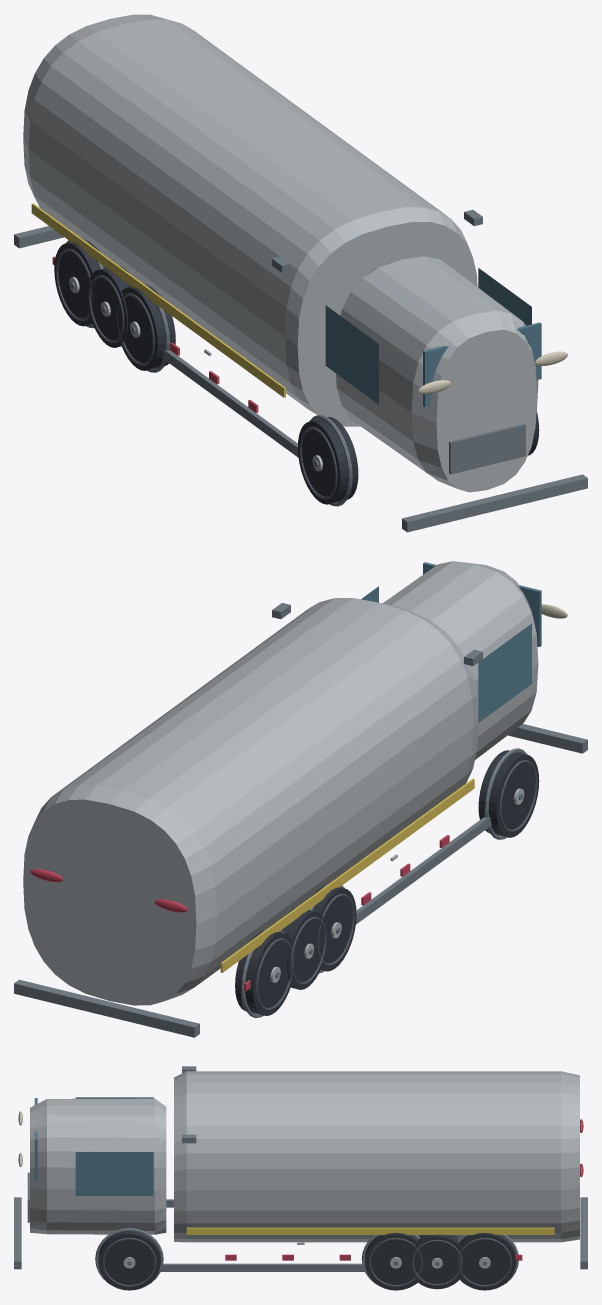
Rendered from truck.glb.
The picture shows the model from 3 angles, top to bottom: view 1: azimuth 30°, elevation 25°; view 2: azimuth 150°, elevation 25°; view 3: azimuth 270°, elevation 25°; orthographic projection. The views are drawn at different scales.
Visible parts, largest first — view 1: truck_body, truck_roof_shell, truck_wheel_-1_2_tire_core, truck_side_window_-1, truck_side_stripe_-1, truck_front_bumper, truck_wheel_-1_1_tire_core, truck_front_grille, truck_wheel_-1_0_tire_core, truck_tandem_-1_tire_core, truck_side_skirt_-1, truck_windshield (+2 smaller); view 2: truck_body, truck_roof_shell, truck_wheel_-1_2_tire_core, truck_side_window_-1, truck_side_stripe_-1, truck_wheel_-1_0_tire_core, truck_rear_bumper, truck_tandem_-1_tire_core, truck_wheel_-1_1_tire_core, truck_side_skirt_-1, truck_front_bumper, truck_windshield; view 3: truck_body, truck_roof_shell, truck_side_window_1, truck_side_stripe_1, truck_wheel_1_2_tire_core, truck_wheel_1_0_tire_core, truck_tandem_1_tire_core, truck_wheel_1_1_tire_core, truck_side_skirt_1, truck_front_bumper, truck_rear_bumper, truck_arch_1_2 (+4 smaller).
Part boxes in pixels (x1,y1,x2,y2): truck_body: [23, 14, 477, 426]; truck_roof_shell: [336, 256, 538, 492]; truck_wheel_-1_2_tire_core: [297, 417, 358, 504]; truck_side_window_-1: [325, 305, 378, 404]; truck_side_stripe_-1: [31, 203, 285, 397]; truck_front_bumper: [402, 474, 587, 532]; truck_wheel_-1_1_tire_core: [121, 284, 175, 370]; truck_front_grille: [449, 423, 525, 474]; truck_wheel_-1_0_tire_core: [54, 239, 105, 326]; truck_tandem_-1_tire_core: [87, 266, 128, 347]; truck_side_skirt_-1: [162, 350, 298, 457]; truck_windshield: [423, 322, 541, 407]; truck_body: [23, 598, 478, 1005]; truck_roof_shell: [383, 561, 538, 759]; truck_wheel_-1_2_tire_core: [478, 750, 539, 837]; truck_side_window_-1: [478, 623, 531, 722]; truck_side_stripe_-1: [220, 778, 474, 972]; truck_wheel_-1_0_tire_core: [235, 929, 291, 1015]; truck_rear_bumper: [14, 979, 199, 1037]; truck_tandem_-1_tire_core: [282, 908, 327, 989]; truck_wheel_-1_1_tire_core: [309, 884, 356, 971]; truck_side_skirt_-1: [356, 817, 491, 924]; truck_front_bumper: [508, 724, 587, 753]; truck_windshield: [423, 562, 541, 646]; truck_body: [174, 1071, 579, 1242]; truck_roof_shell: [30, 1098, 166, 1234]; truck_side_window_1: [75, 1152, 153, 1195]; truck_side_stripe_1: [186, 1227, 554, 1234]; truck_wheel_1_2_tire_core: [98, 1227, 160, 1290]; truck_wheel_1_0_tire_core: [460, 1232, 515, 1290]; truck_tandem_1_tire_core: [408, 1234, 466, 1289]; truck_wheel_1_1_tire_core: [365, 1232, 417, 1290]; truck_side_skirt_1: [158, 1263, 366, 1271]; truck_front_bumper: [14, 1197, 21, 1269]; truck_rear_bumper: [580, 1197, 587, 1269]; truck_arch_1_2: [95, 1228, 163, 1284].
Bounding box in the file's own units: 2.76 × 3.05 × 9.05.
